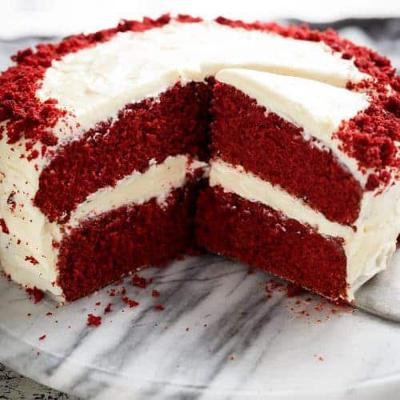cake: (1, 9, 400, 313)
